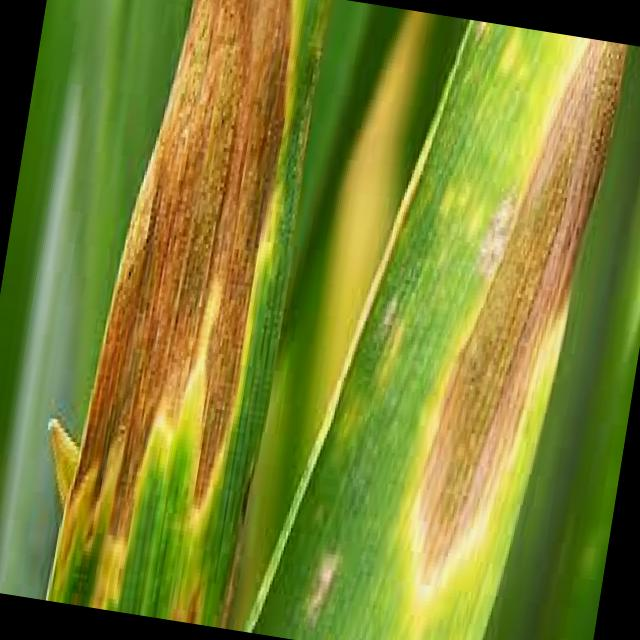leaf_blight: (247, 20, 626, 640), (47, 0, 326, 621)
